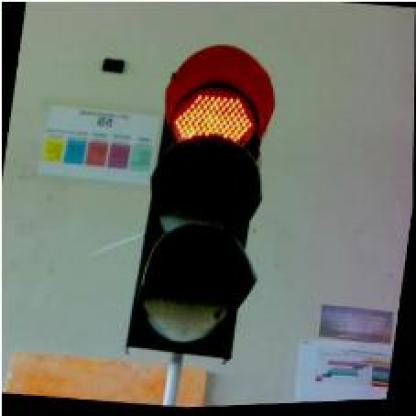red: (122, 37, 285, 366)
